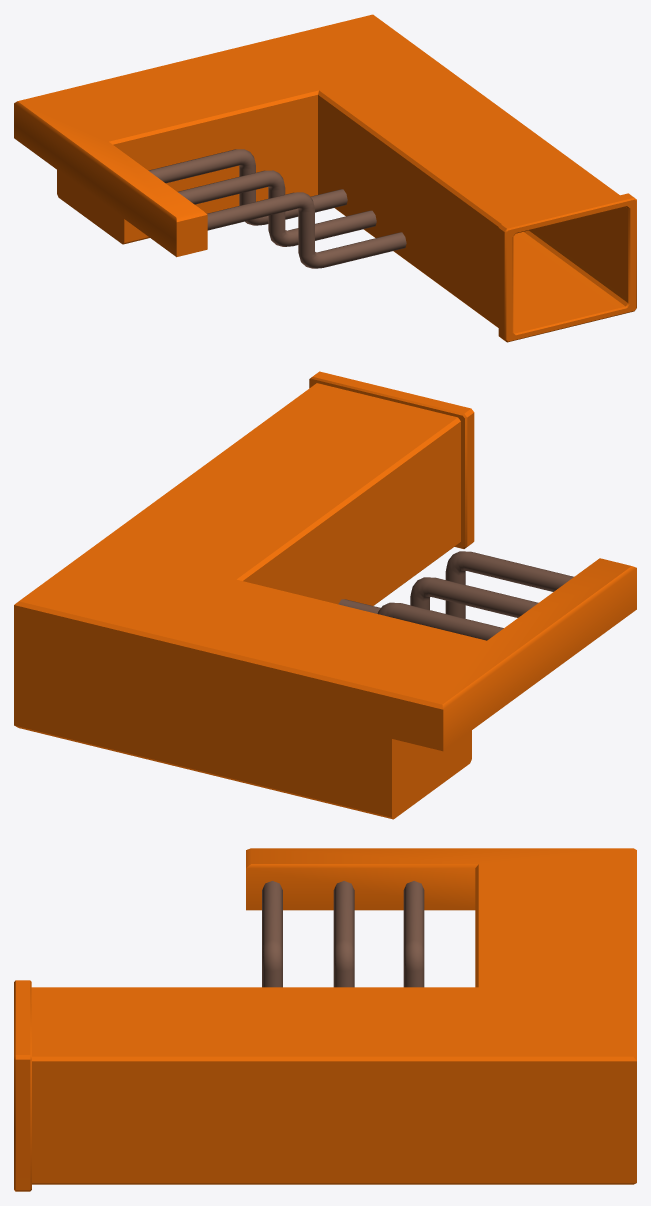
The model's file is milkBox.fbx.
3 views of the same model, one above another, from view 1: azimuth 30°, elevation 25°; view 2: azimuth 150°, elevation 25°; view 3: azimuth 270°, elevation 25° (orthographic). The views are drawn at different scales.
Parts seen in each view (by area): view 1: Base; view 2: Base; view 3: Base.
Part boxes in pixels (box(x1,y1,x2,y2)): Base: box(14, 14, 636, 342); Base: box(14, 371, 636, 819); Base: box(14, 848, 636, 1191).
Bounding box in the file's own units: 1459 × 435 × 1796.
